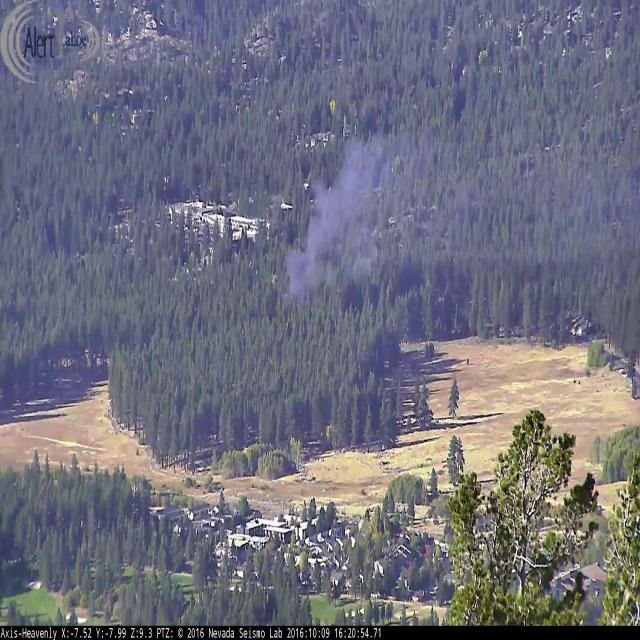smoke: (278, 112, 446, 300)
